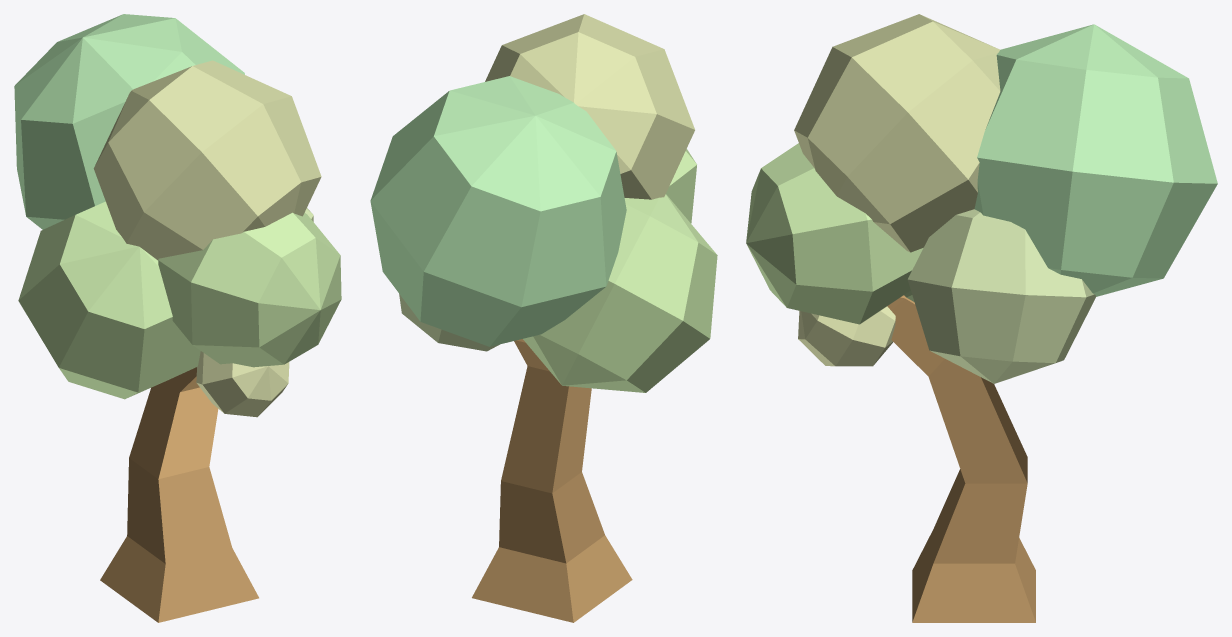
File: LowPolyTree_2.fbx
3 views of the same model, side by side, from view 1: azimuth 30°, elevation 25°; view 2: azimuth 150°, elevation 25°; view 3: azimuth 270°, elevation 25° (orthographic). The views are drawn at different scales.
Visible parts, largest first — view 1: Esfera, Cubo, Esfera_5, Esfera_3, Esfera_4, Esfera_2; view 2: Esfera_3, Cubo, Esfera_5, Esfera, Esfera_4, Esfera_1; view 3: Esfera_3, Esfera, Cubo, Esfera_1, Esfera_4, Esfera_2.
Part boxes in pixels (x1,y1,x2,y2): Esfera: (93,60,321,260); Cubo: (100,367,258,622); Esfera_5: (18,201,200,399); Esfera_3: (14,14,244,229); Esfera_4: (158,212,341,367); Esfera_2: (196,351,289,417); Esfera_3: (370,76,626,346); Cubo: (472,339,632,622); Esfera_5: (523,194,717,392); Esfera: (485,14,694,199); Esfera_4: (666,149,696,223); Esfera_1: (399,294,499,351); Esfera_3: (974,24,1217,296); Esfera: (794,14,1000,252); Cubo: (887,295,1035,622); Esfera_1: (907,209,1096,383); Esfera_4: (746,143,923,324); Esfera_2: (798,306,895,366).
Size of the model in its own units: 691 by 1272 by 951.
